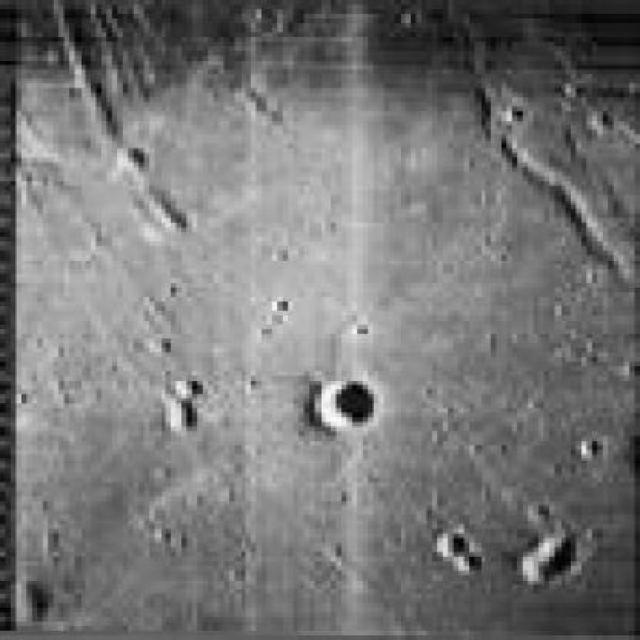crater: (317, 382, 375, 431)
